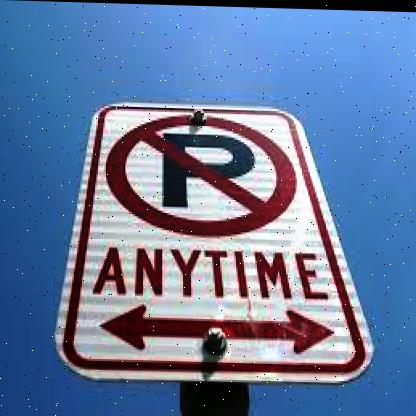No parking: (107, 106, 303, 251)
